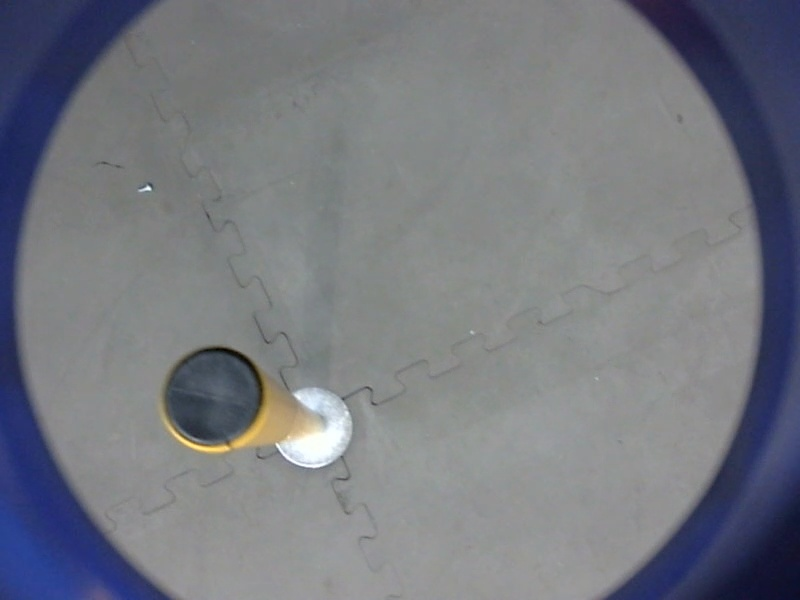tip: (153, 339, 274, 461)
